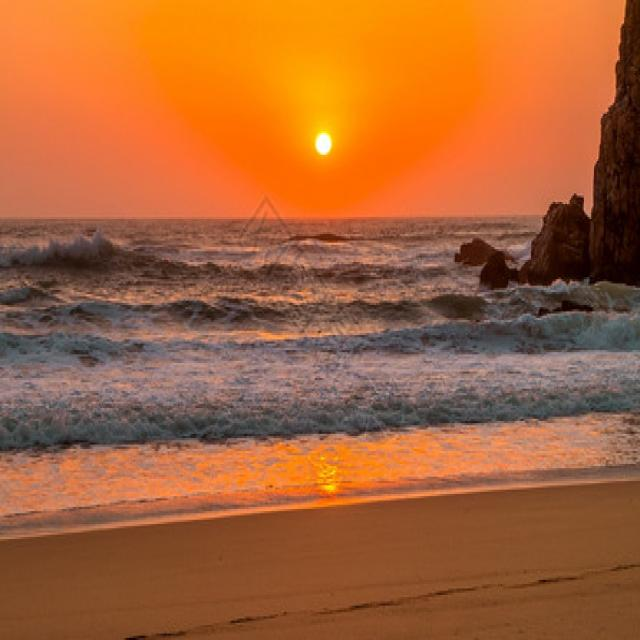reef: (431, 184, 604, 294)
